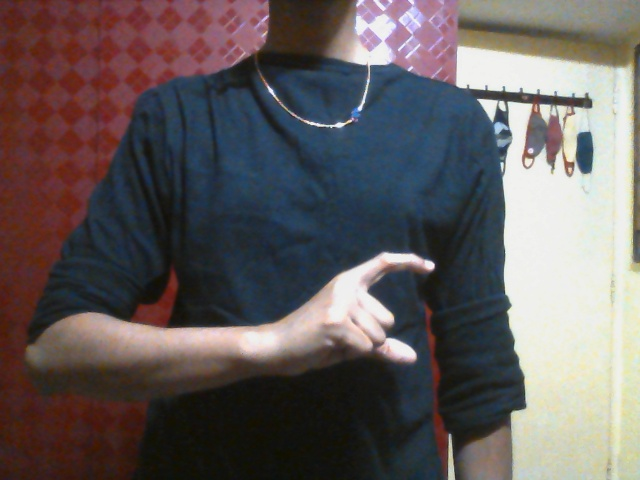C: (284, 249, 436, 381)
